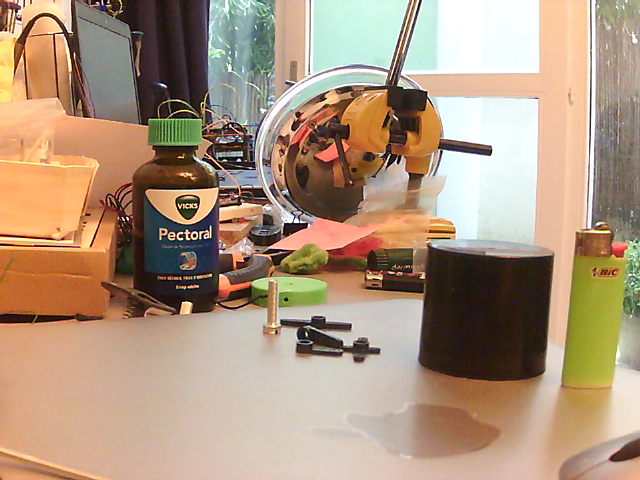bolt: (262, 279, 282, 335)
lighter: (559, 219, 627, 398), (362, 269, 427, 294)
